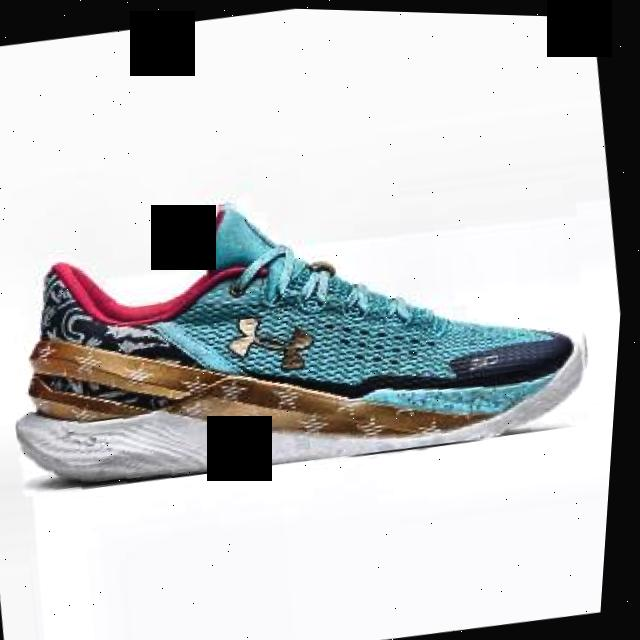shoe: (0, 139, 617, 510)
